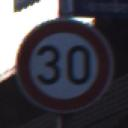speed_limit_30: (13, 16, 117, 117)
